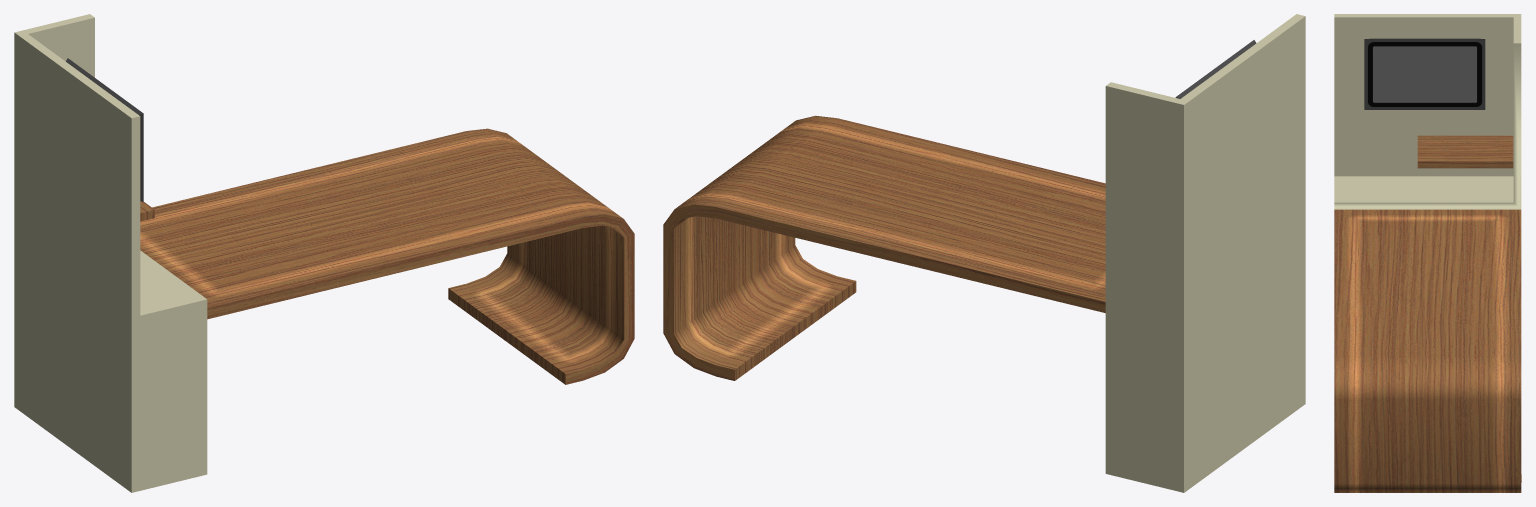
File: ModKitchenTable.fbx
3 renders of one model, left to right at view 1: azimuth 30°, elevation 25°; view 2: azimuth 150°, elevation 25°; view 3: azimuth 270°, elevation 25°, orthographic. The views are drawn at different scales.
Parts seen in each view (by area): view 1: ModKitTable; view 2: ModKitTable; view 3: ModKitTable.
Part boxes in pixels (bbox=[...]): ModKitTable: bbox=[14, 14, 634, 492]; ModKitTable: bbox=[663, 14, 1305, 492]; ModKitTable: bbox=[1334, 14, 1521, 492].
Size of the model in its own units: 5.83 by 4.15 by 2.36.
1 material, 1 textured.
